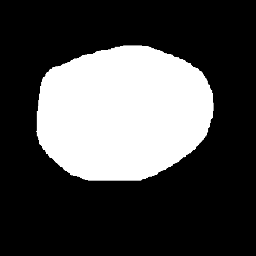mass: (38, 44, 214, 186)
